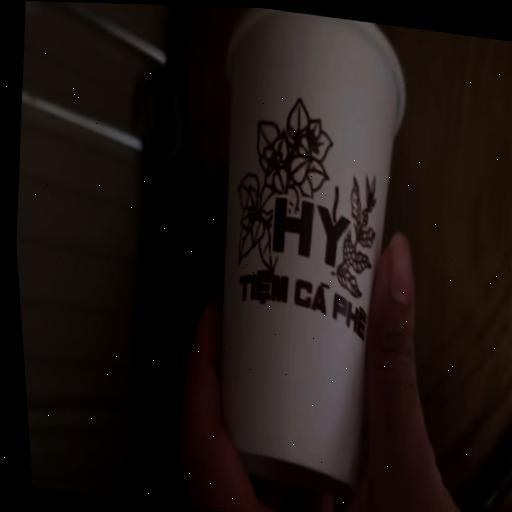Ly_giay: (221, 7, 405, 492)
